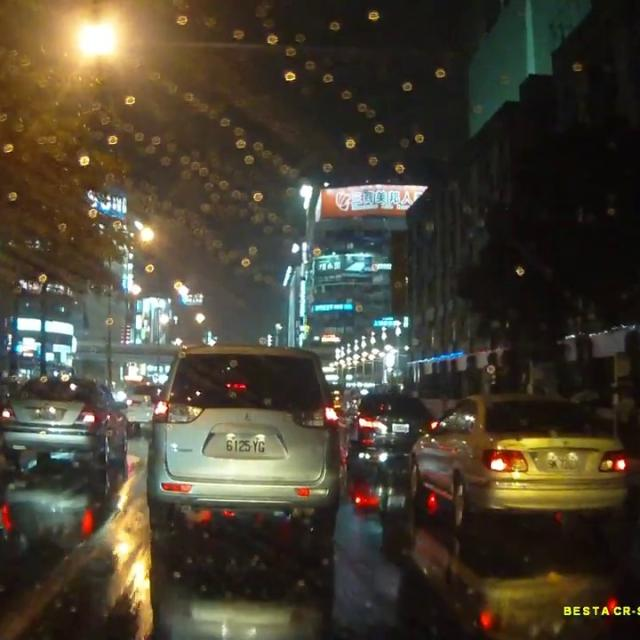Car: (145, 341, 339, 540), (410, 391, 635, 525), (0, 372, 122, 467), (348, 390, 431, 459), (124, 380, 168, 432)
